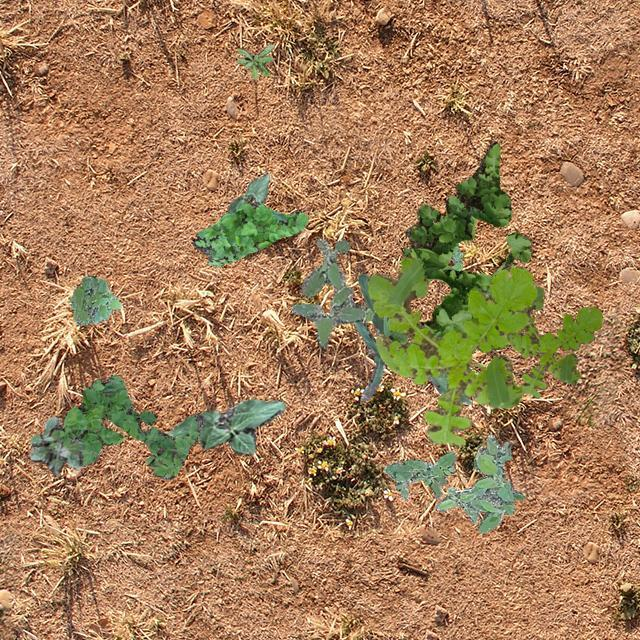crop: (344, 272, 470, 402), (168, 398, 284, 453), (226, 172, 268, 212)
weed: (367, 256, 536, 446), (400, 140, 530, 338), (58, 374, 204, 478), (506, 284, 600, 398), (290, 238, 372, 348), (436, 433, 524, 532), (192, 200, 308, 266), (382, 449, 456, 498), (28, 416, 80, 476), (68, 274, 120, 324), (235, 42, 272, 78), (449, 242, 462, 270)
